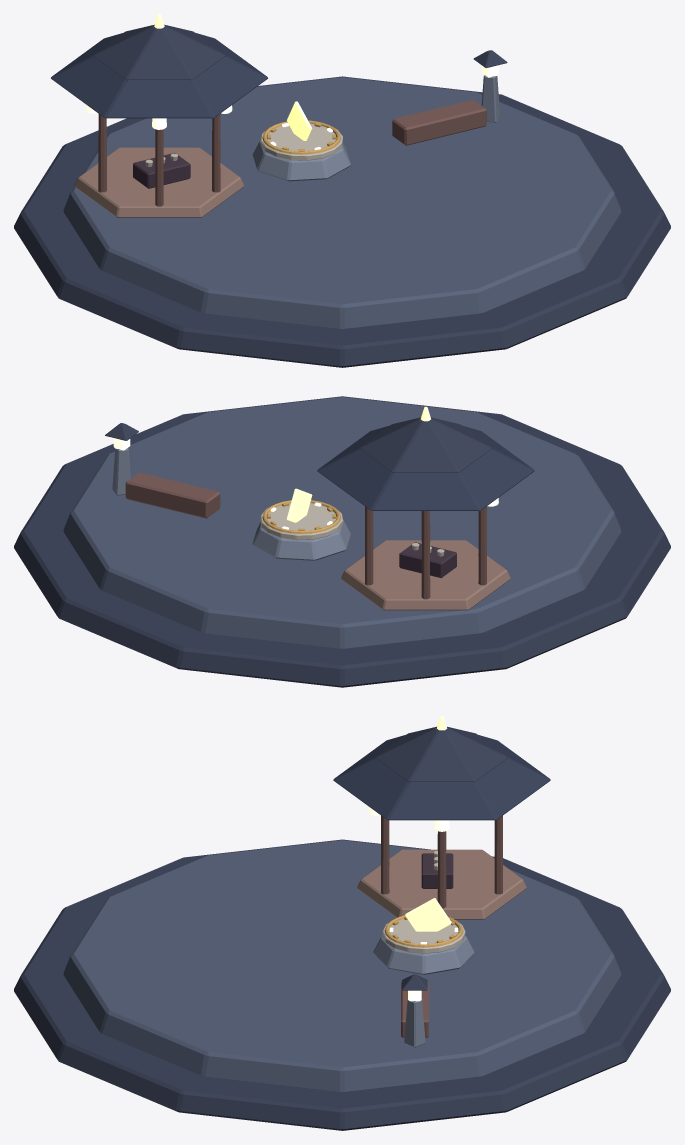
The model's file is time_tea_pavilion.glb.
The picture shows the model from 3 angles, top to bottom: view 1: azimuth 30°, elevation 25°; view 2: azimuth 150°, elevation 25°; view 3: azimuth 270°, elevation 25°; orthographic projection.
Parts seen in each view (by area): view 1: TimeShoreRoot_Merged, TeaPavilion_Merged, TidalSundial_Merged; view 2: TimeShoreRoot_Merged, TeaPavilion_Merged, TidalSundial_Merged; view 3: TimeShoreRoot_Merged, TeaPavilion_Merged, TidalSundial_Merged.
Boxes of the visible parts, box(x1,y1,x2,y2) form: TimeShoreRoot_Merged: box(14, 50, 670, 367); TeaPavilion_Merged: box(51, 14, 267, 217); TidalSundial_Merged: box(252, 101, 350, 181); TimeShoreRoot_Merged: box(14, 396, 670, 687); TeaPavilion_Merged: box(317, 406, 534, 610); TidalSundial_Merged: box(252, 488, 350, 560); TimeShoreRoot_Merged: box(14, 839, 670, 1130); TeaPavilion_Merged: box(333, 716, 550, 919); TidalSundial_Merged: box(373, 898, 474, 974).
Size of the model in its own units: 14.52 by 5.14 by 14.52.
